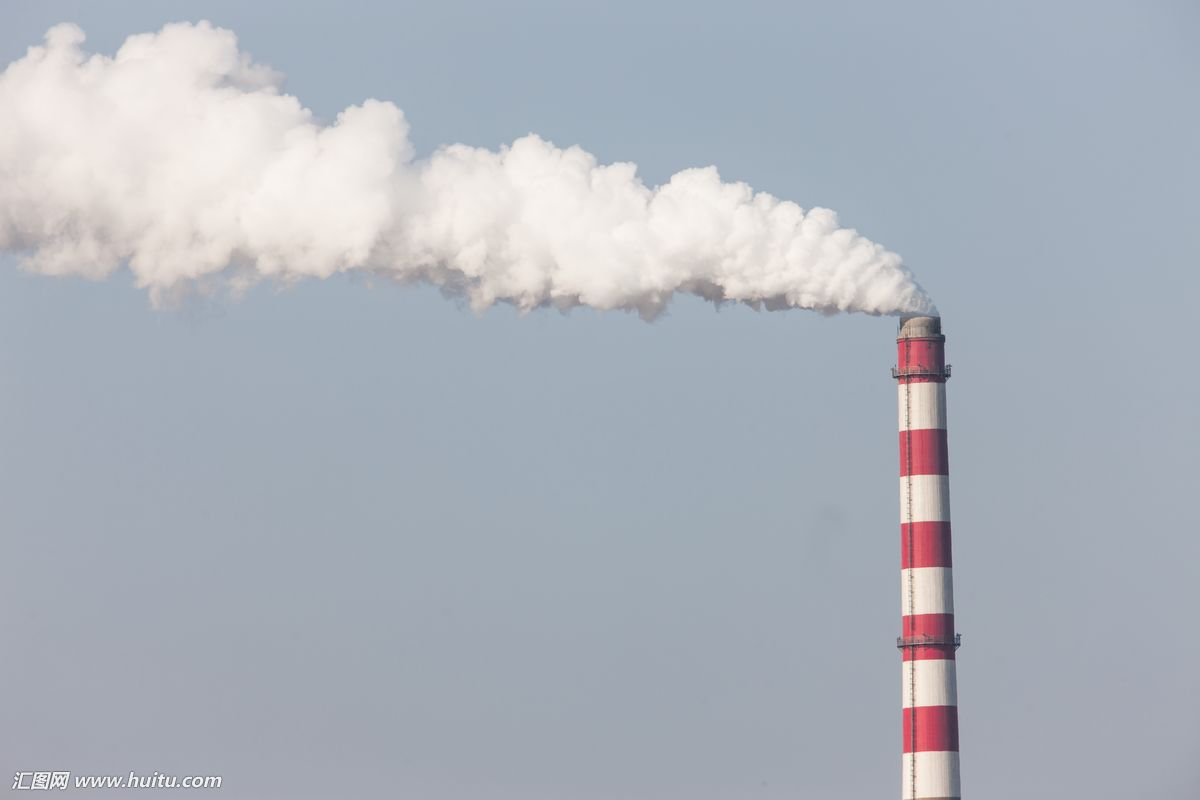dust: (453, 132, 950, 333)
